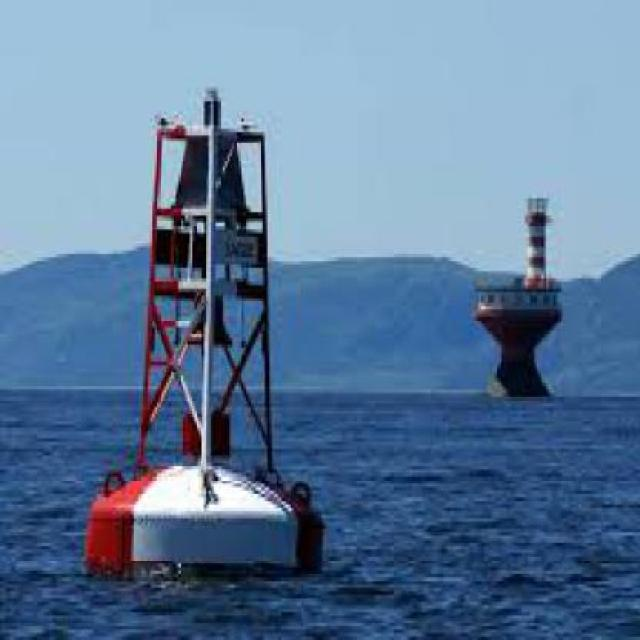buoy: (80, 60, 334, 586)
